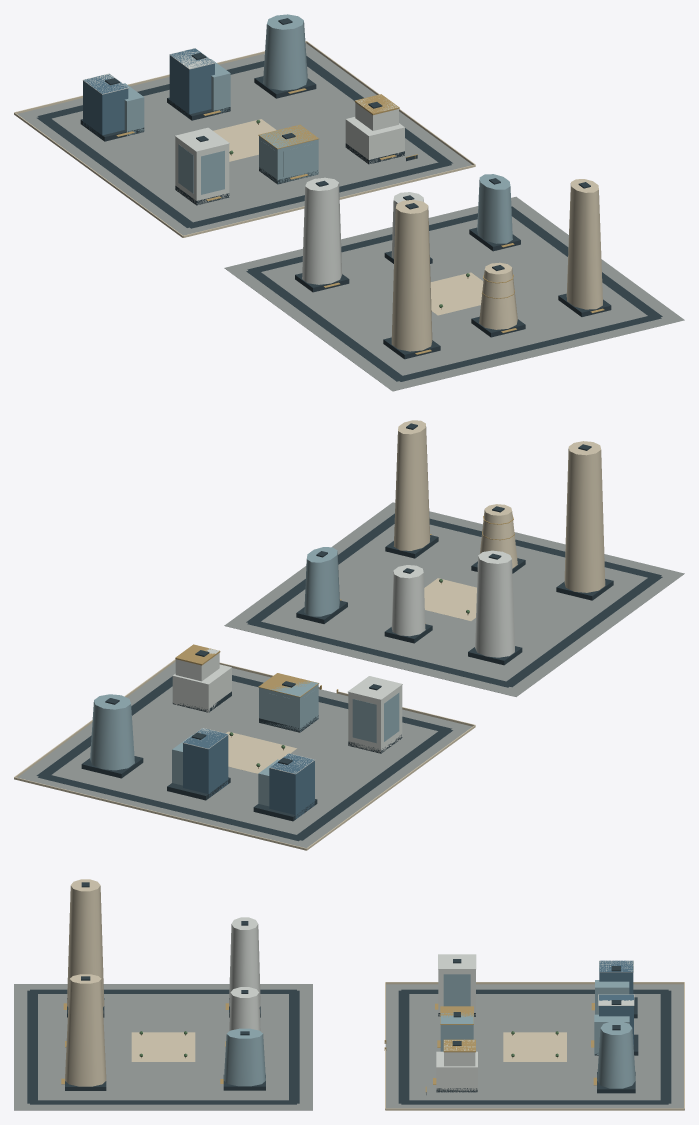
File: GC-TILE-11-14.glb
3 views of the same model, one above another, from view 1: azimuth 30°, elevation 25°; view 2: azimuth 150°, elevation 25°; view 3: azimuth 270°, elevation 25° (orthographic). The views are drawn at different scales.
Parts seen in each view (by area): view 1: GC-TILE-11-14-paving, GC-TILE-11-14-ivory, GC-TILE-11-14-dark, GC-TILE-11-14-glass, GC-TILE-11-14-white, GC-TILE-11-14-blue, GC-TILE-11-14-gold; view 2: GC-TILE-11-14-paving, GC-TILE-11-14-ivory, GC-TILE-11-14-dark, GC-TILE-11-14-white, GC-TILE-11-14-glass, GC-TILE-11-14-blue, GC-TILE-11-14-gold; view 3: GC-TILE-11-14-paving, GC-TILE-11-14-ivory, GC-TILE-11-14-dark, GC-TILE-11-14-glass, GC-TILE-11-14-white, GC-TILE-11-14-blue, GC-TILE-11-14-gold.
Part boxes in pixels (x1=…): GC-TILE-11-14-paving: x1=17, y1=43, x2=684, y2=391; GC-TILE-11-14-ivory: x1=14, y1=41, x2=602, y2=351; GC-TILE-11-14-dark: x1=37, y1=18, x2=662, y2=381; GC-TILE-11-14-glass: x1=123, y1=14, x2=512, y2=243; GC-TILE-11-14-white: x1=83, y1=48, x2=423, y2=284; GC-TILE-11-14-blue: x1=83, y1=48, x2=214, y2=138; GC-TILE-11-14-gold: x1=116, y1=88, x2=604, y2=354; GC-TILE-11-14-paving: x1=17, y1=502, x2=684, y2=848; GC-TILE-11-14-ivory: x1=14, y1=420, x2=605, y2=850; GC-TILE-11-14-dark: x1=36, y1=423, x2=662, y2=841; GC-TILE-11-14-white: x1=172, y1=550, x2=514, y2=774; GC-TILE-11-14-glass: x1=90, y1=547, x2=399, y2=806; GC-TILE-11-14-blue: x1=183, y1=728, x2=314, y2=819; GC-TILE-11-14-gold: x1=175, y1=515, x2=517, y2=697; GC-TILE-11-14-paving: x1=14, y1=984, x2=683, y2=1110; GC-TILE-11-14-ivory: x1=65, y1=879, x2=684, y2=1110; GC-TILE-11-14-dark: x1=27, y1=882, x2=671, y2=1104; GC-TILE-11-14-glass: x1=224, y1=974, x2=635, y2=1088; GC-TILE-11-14-white: x1=229, y1=917, x2=634, y2=1092; GC-TILE-11-14-blue: x1=599, y1=960, x2=633, y2=1045; GC-TILE-11-14-gold: x1=61, y1=1003, x2=596, y2=1092.
Size of the model in its own units: 339 by 157 by 758.
